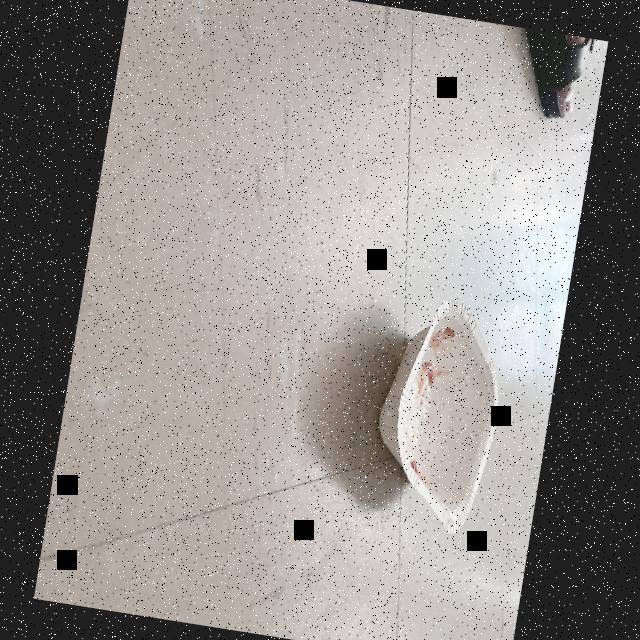cardboard_bowl: (350, 282, 526, 548)
